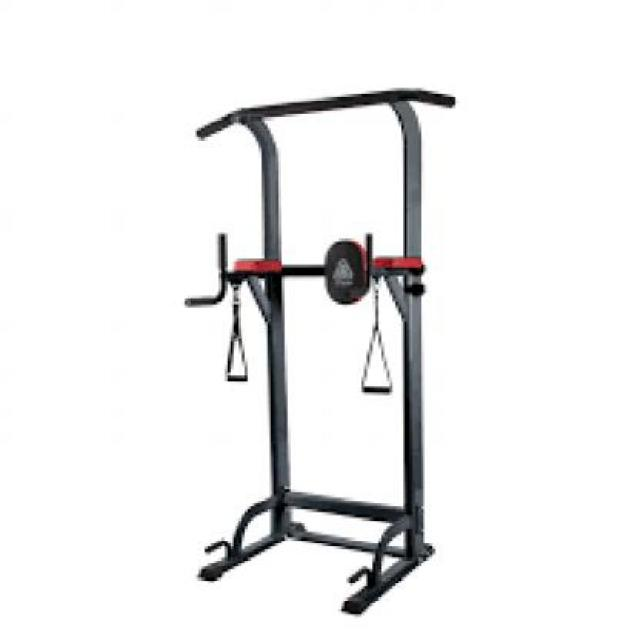chinning dipping: (183, 87, 457, 618)
